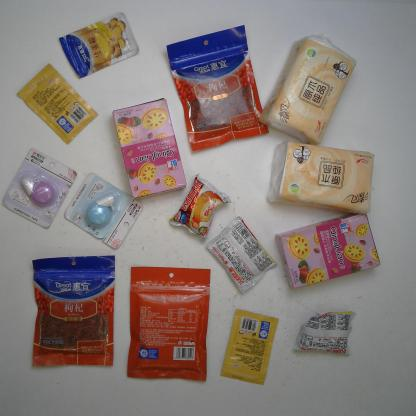Dessert: (274, 211, 382, 289), (112, 96, 190, 201), (206, 216, 278, 294), (168, 172, 233, 242), (292, 310, 358, 357)
Dried Fruit: (166, 24, 270, 153), (126, 265, 212, 382), (31, 254, 116, 367)
Seasoner: (16, 63, 100, 145), (59, 13, 140, 79), (219, 309, 280, 386)
Stationery: (63, 172, 145, 250), (2, 146, 78, 230)
Tissue: (258, 32, 358, 146), (267, 140, 376, 214)
